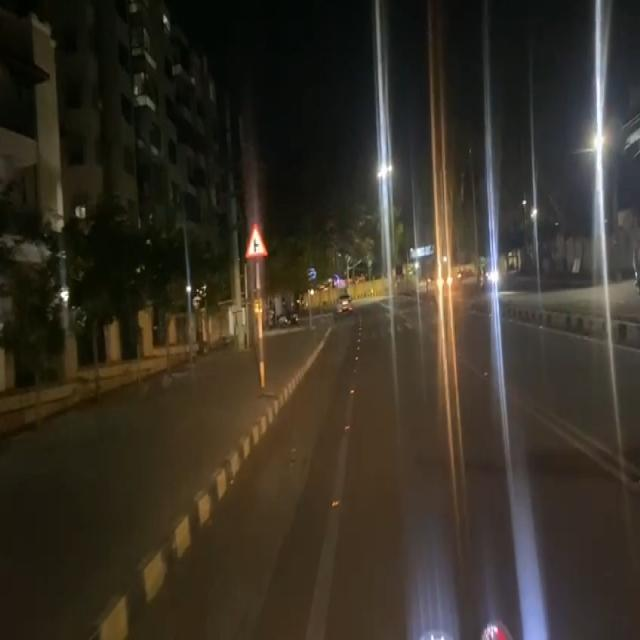bien_cam: (243, 222, 270, 262)
